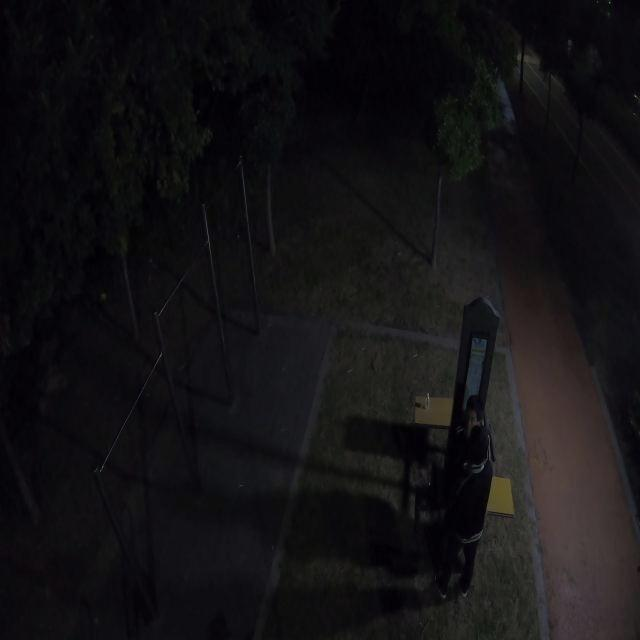non-fight: (427, 395, 497, 604)
